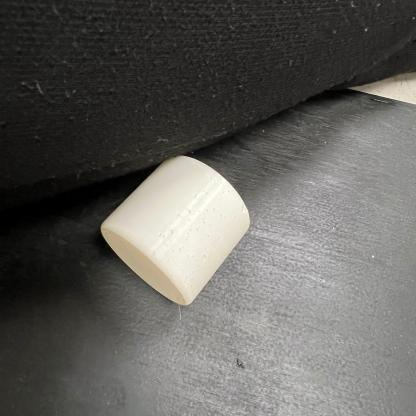white cylinder: (97, 153, 254, 308)
